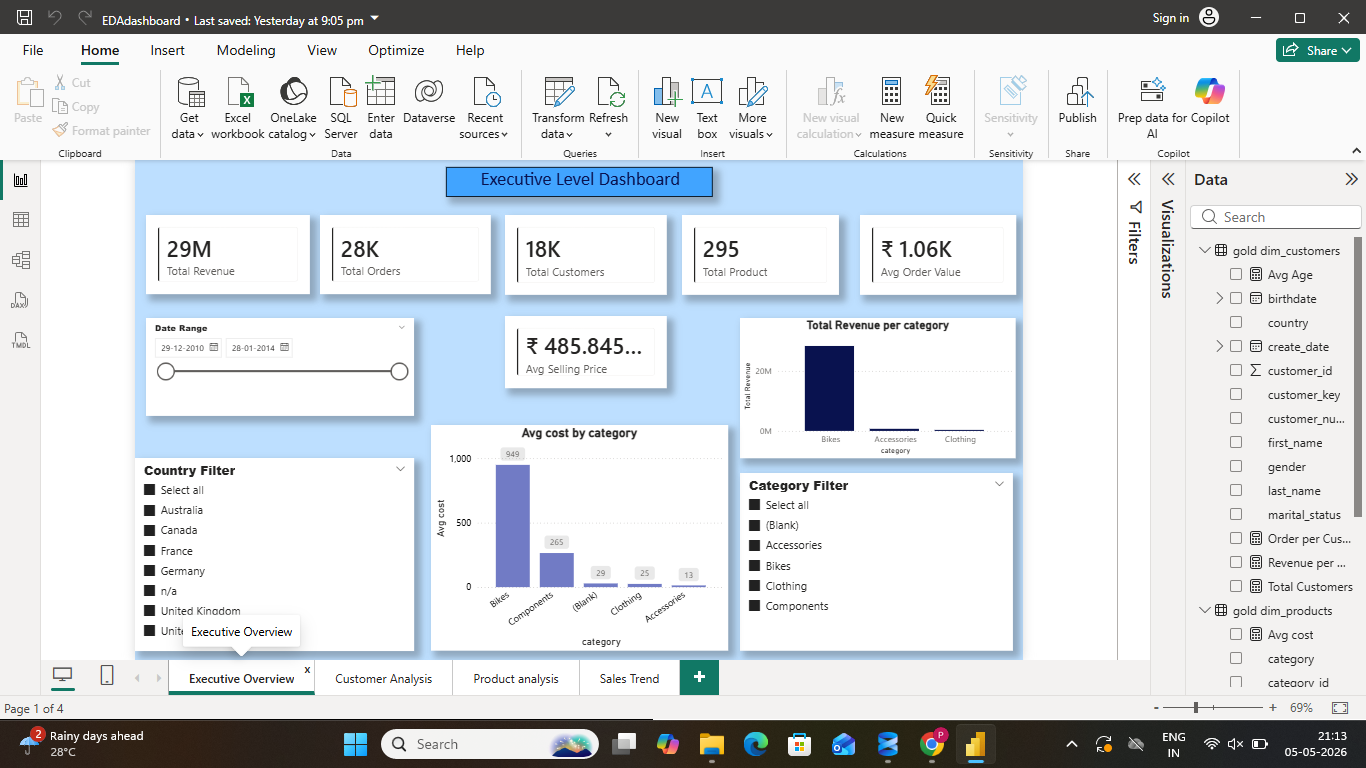

The dashboard page shown, as its layout file describes it:
{"tool":"powerbi","page":{"name":"Executive Overview","canvas":[1280,720],"ordinal":0},"visuals":[{"type":"cardVisual","fields":{"Data":["gold fact_sales.Total Revenue"]},"box":[15.8,79.2,236.2,113.8],"z":0},{"type":"cardVisual","fields":{"Data":["gold fact_sales.Avg Order Value"]},"box":[1044,79.2,224.6,115.2],"z":1000},{"type":"cardVisual","fields":{"Data":["gold fact_sales.Total Orders"]},"box":[266.4,79.2,246.2,113.8],"z":2000},{"type":"cardVisual","fields":{"Data":["gold fact_sales.Avg Selling Price"]},"box":[532.8,224.6,233.3,103.7],"z":3000},{"type":"cardVisual","fields":{"Data":["gold dim_customers.Total Customers"]},"box":[532.8,79.2,233.3,115.2],"z":4000},{"type":"cardVisual","fields":{"Data":["gold dim_products.Total Product"]},"box":[787.7,79.2,226.1,115.2],"z":5000},{"type":"clusteredColumnChart","title":"Total Revenue per category","fields":{"Category":["gold dim_products.category"],"Y":["gold fact_sales.Total Revenue"]},"box":[871.2,227.5,397.4,201.6],"z":6000},{"type":"slicer","fields":{"Values":["gold fact_sales.order_date"]},"box":[15.8,227.5,385.9,141.1],"z":7000},{"type":"slicer","fields":{"Values":["gold dim_customers.country"]},"box":[0,429.1,401.8,277.9],"z":8000},{"type":"slicer","fields":{"Values":["gold dim_products.category"]},"box":[871.2,450.7,393.1,256.3],"z":9000},{"type":"textbox","title":"Executive Level Dashboard","box":[447.8,10.1,384.5,43.2],"z":10000},{"type":"clusteredColumnChart","fields":{"Category":["gold dim_products.category"],"Y":["gold dim_products.Avg cost"]},"box":[426.2,381.6,427.7,325.4],"z":11000}]}

Visuals, with their boxes on the page's 1280x720 design canvas (x1, y1, x2, y2). These are canvas units, not pixel positions in the 1366x768 screenshot, which may show the page scaled, cropped or inside an application window:
cardVisual - gold fact_sales.Total Revenue: 16/79/252/193
cardVisual - gold fact_sales.Avg Order Value: 1044/79/1269/194
cardVisual - gold fact_sales.Total Orders: 266/79/513/193
cardVisual - gold fact_sales.Avg Selling Price: 533/225/766/328
cardVisual - gold dim_customers.Total Customers: 533/79/766/194
cardVisual - gold dim_products.Total Product: 788/79/1014/194
"Total Revenue per category" clusteredColumnChart: 871/228/1269/429
slicer - gold fact_sales.order_date: 16/228/402/369
slicer - gold dim_customers.country: 0/429/402/707
slicer - gold dim_products.category: 871/451/1264/707
"Executive Level Dashboard" textbox: 448/10/832/53
clusteredColumnChart - gold dim_products.category x gold dim_products.Avg cost: 426/382/854/707
